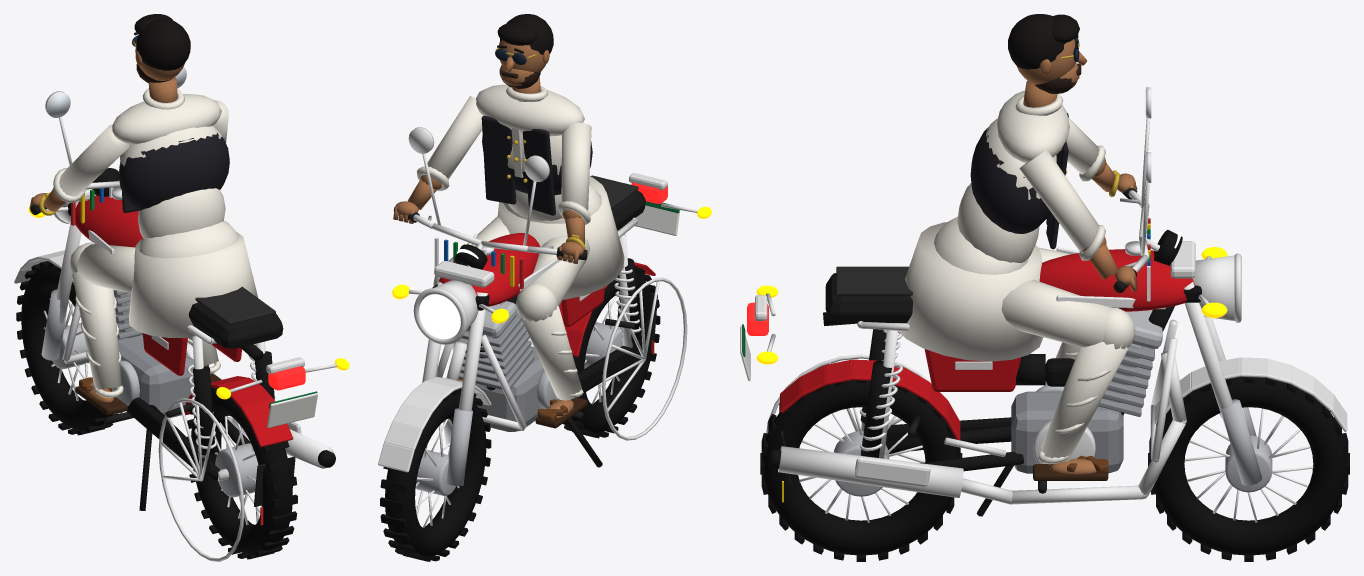
Rendered from bike.glb.
3 views of the same model, side by side, from view 1: azimuth 30°, elevation 25°; view 2: azimuth 150°, elevation 25°; view 3: azimuth 270°, elevation 25° (orthographic). The views are drawn at different scales.
Parts seen in each view (by area): view 1: Wheel_R, Cone.002, Wheel_F, Sphere.016, Cone.008, Sphere.012, RiderHead, Sphere.010, Cube.031, Cube.025, Sphere.002, Sphere.009 (+23 smaller); view 2: Wheel_F, Wheel_R, Cone.002, RiderHead, Sphere.012, Cone.008, Cone.003, Cube.068, Sphere.002, Cube.031, Cone.005, Cube.067 (+39 smaller); view 3: Wheel_F, Wheel_R, Cone.002, Sphere.002, RiderHead, Cone.009, Cone.010, Cube.031, Sphere.016, Cone.001, Cone.005, Sphere.012 (+27 smaller).
Part boxes in pixels (bbox=[...]): Wheel_R: bbox=[187, 387, 297, 559]; Cone.002: bbox=[129, 232, 257, 338]; Wheel_F: bbox=[16, 261, 118, 435]; Sphere.016: bbox=[118, 133, 229, 210]; Cone.008: bbox=[72, 270, 121, 389]; Sphere.012: bbox=[112, 94, 221, 144]; RiderHead: bbox=[132, 14, 190, 82]; Sphere.010: bbox=[137, 188, 225, 238]; Cube.031: bbox=[112, 335, 194, 417]; Cube.025: bbox=[188, 302, 283, 348]; Sphere.002: bbox=[75, 195, 142, 247]; Sphere.009: bbox=[139, 220, 239, 258]; Wheel_F: bbox=[380, 388, 491, 561]; Wheel_R: bbox=[562, 266, 660, 438]; Cone.002: bbox=[497, 176, 624, 299]; RiderHead: bbox=[495, 14, 553, 88]; Sphere.012: bbox=[476, 84, 584, 136]; Cone.008: bbox=[520, 306, 581, 400]; Cone.003: bbox=[561, 122, 591, 214]; Cube.068: bbox=[481, 115, 516, 204]; Sphere.002: bbox=[438, 233, 540, 306]; Cube.031: bbox=[475, 346, 544, 431]; Cone.005: bbox=[427, 95, 482, 184]; Cube.067: bbox=[522, 129, 555, 215]; Wheel_F: bbox=[1148, 376, 1349, 561]; Wheel_R: bbox=[760, 380, 962, 561]; Cone.002: bbox=[894, 222, 1043, 361]; Sphere.002: bbox=[1039, 249, 1194, 311]; RiderHead: bbox=[1008, 14, 1087, 93]; Cone.009: bbox=[1001, 280, 1111, 347]; Cone.010: bbox=[1041, 341, 1128, 461]; Cube.031: bbox=[1011, 391, 1123, 473]; Sphere.016: bbox=[970, 127, 1050, 233]; Cone.001: bbox=[778, 446, 963, 497]; Cone.005: bbox=[1019, 149, 1099, 251]; Sphere.012: bbox=[997, 90, 1069, 162].
Size of the model in its own units: 0.8141 by 1.9 by 1.95.
